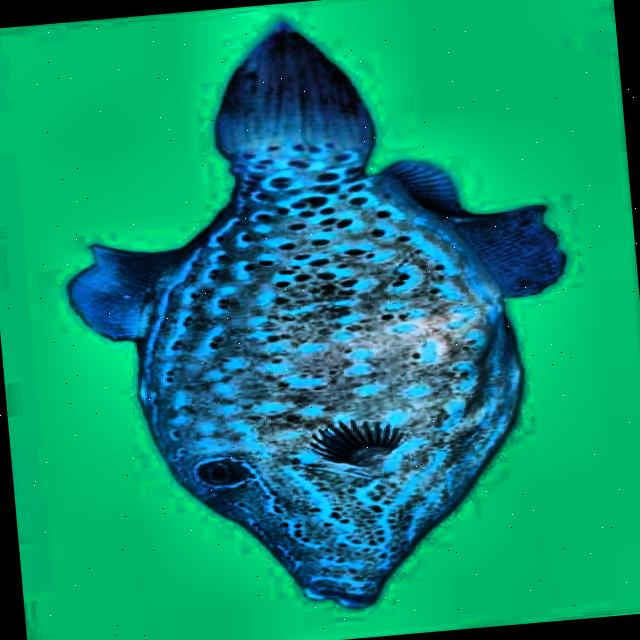fish: (43, 0, 597, 630)
